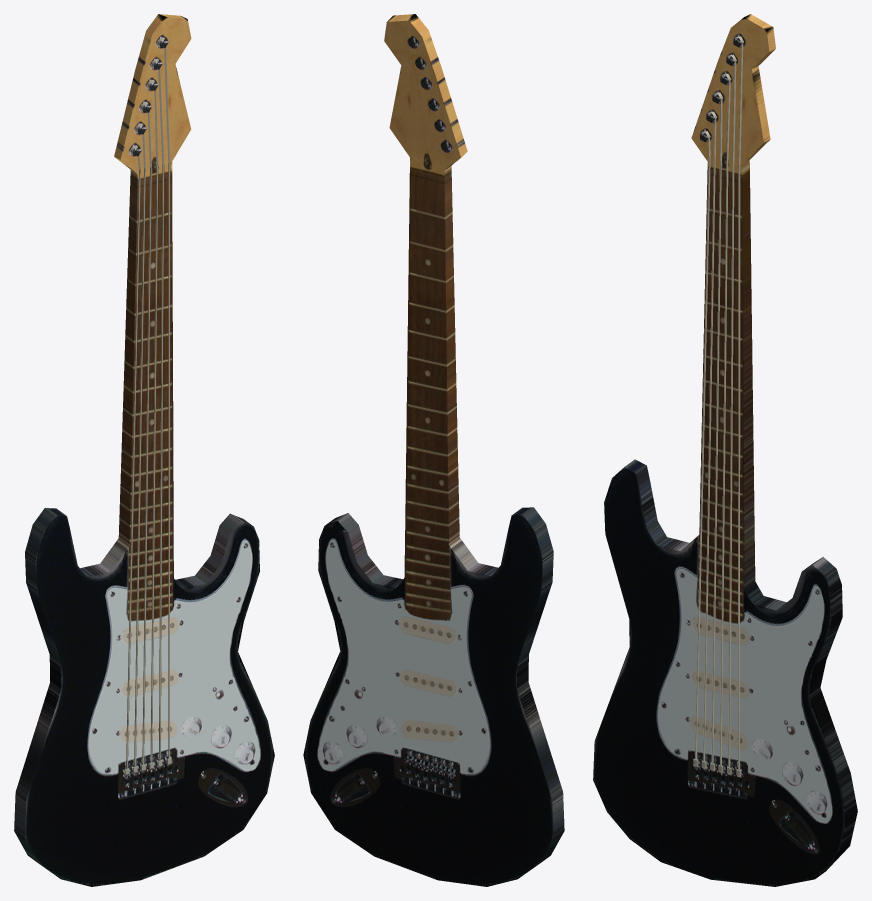
File: GuitarCurse1.fbx
3 renders of one model, left to right at view 1: azimuth 30°, elevation 25°; view 2: azimuth 150°, elevation 25°; view 3: azimuth 330°, elevation 25°, orthographic.
Visible parts, largest first — view 1: Gitarre; view 2: Gitarre; view 3: Gitarre.
Part boxes in pixels (x1,y1,x2,y2): Gitarre: (14,14,274,886); Gitarre: (303,14,564,886); Gitarre: (593,14,857,886).
Bounding box in the file's own units: 20.1 × 65.54 × 1.72.
